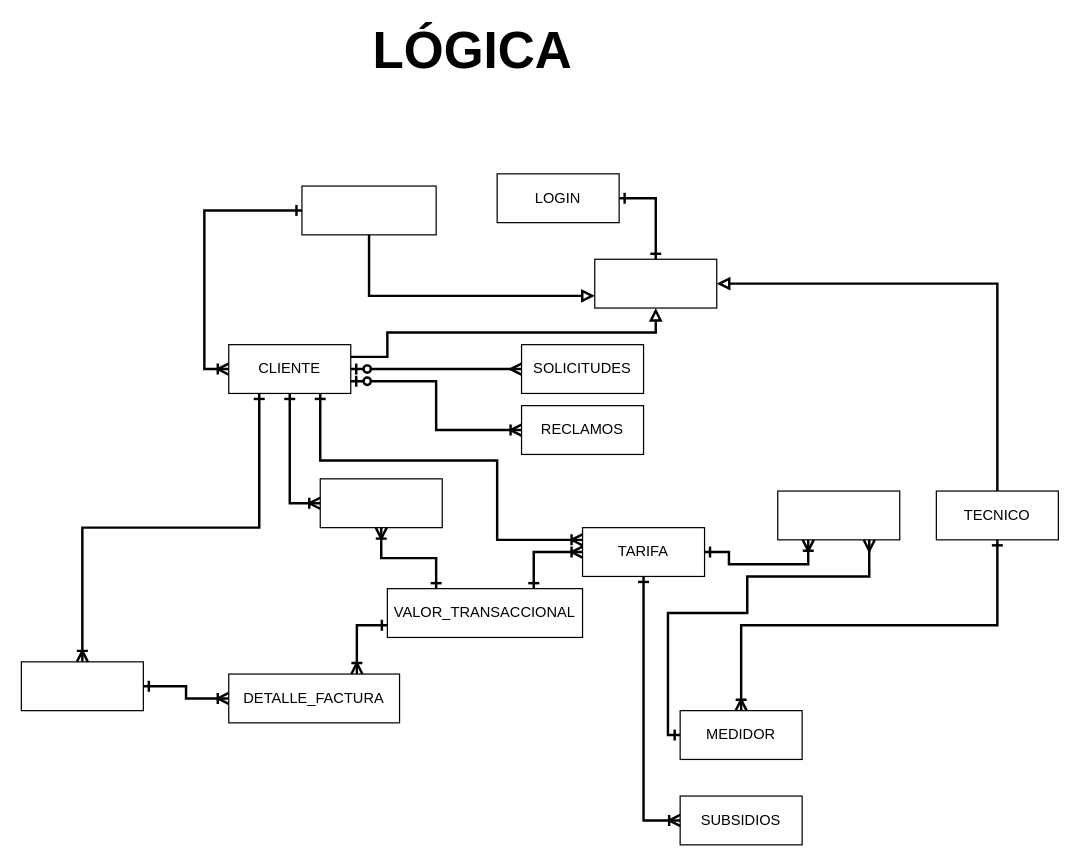
Image size: 1080x866. Some labels were removed from this diagram. The centre of each missing label's shape, as x and y in pixels:
ADMINISTRADOR: point 368,210
CONSUMO: point 838,515
FACTURA: point 81,686
PAGOS: point 380,503
PERSONA: point 655,283
